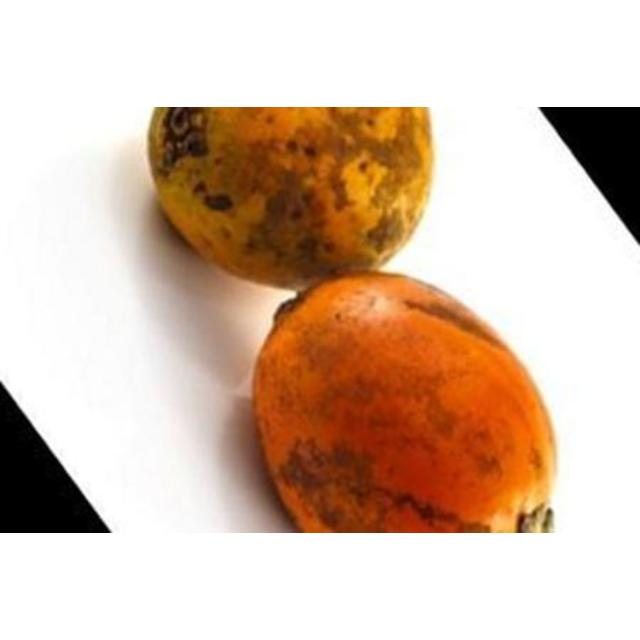good: (252, 272, 558, 532), (146, 107, 437, 296)
